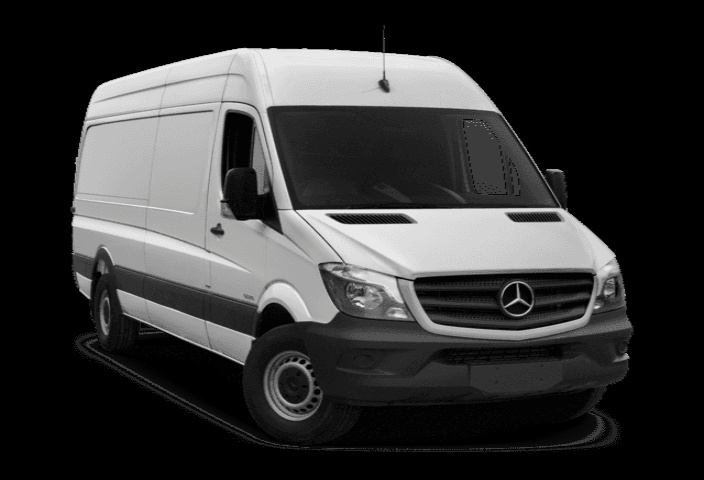van: (63, 44, 638, 441)
